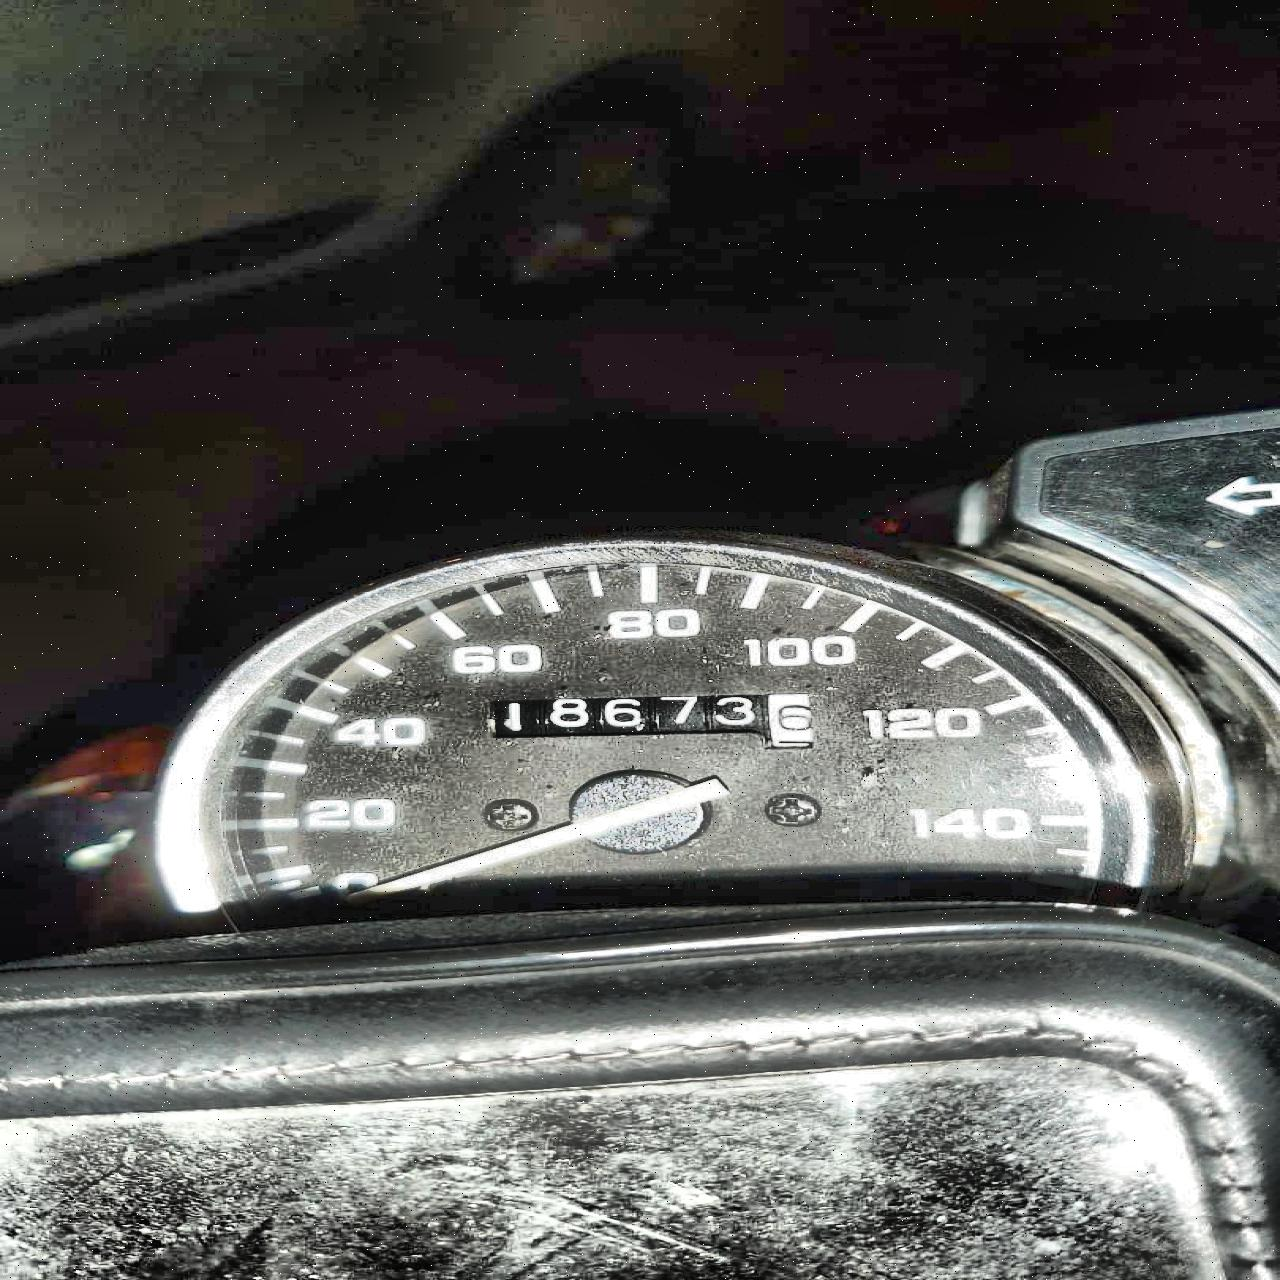1: (501, 696, 526, 734)
3: (715, 693, 758, 728)
6: (599, 695, 645, 728), (771, 699, 813, 734)
7: (655, 694, 701, 724)
8: (544, 697, 590, 729)
odometer: (484, 690, 836, 753)
